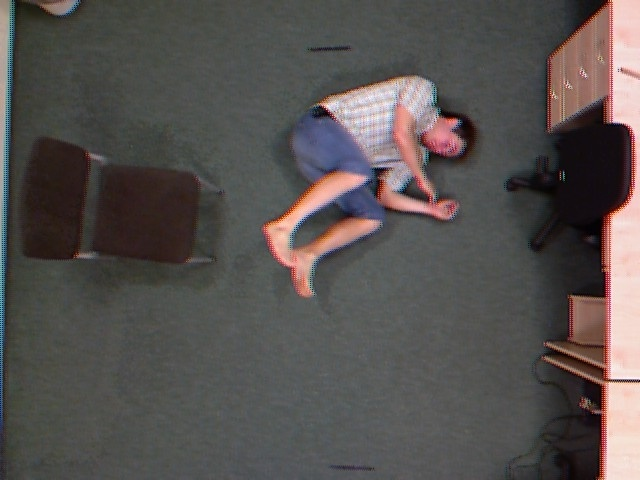fall: (268, 70, 481, 303)
